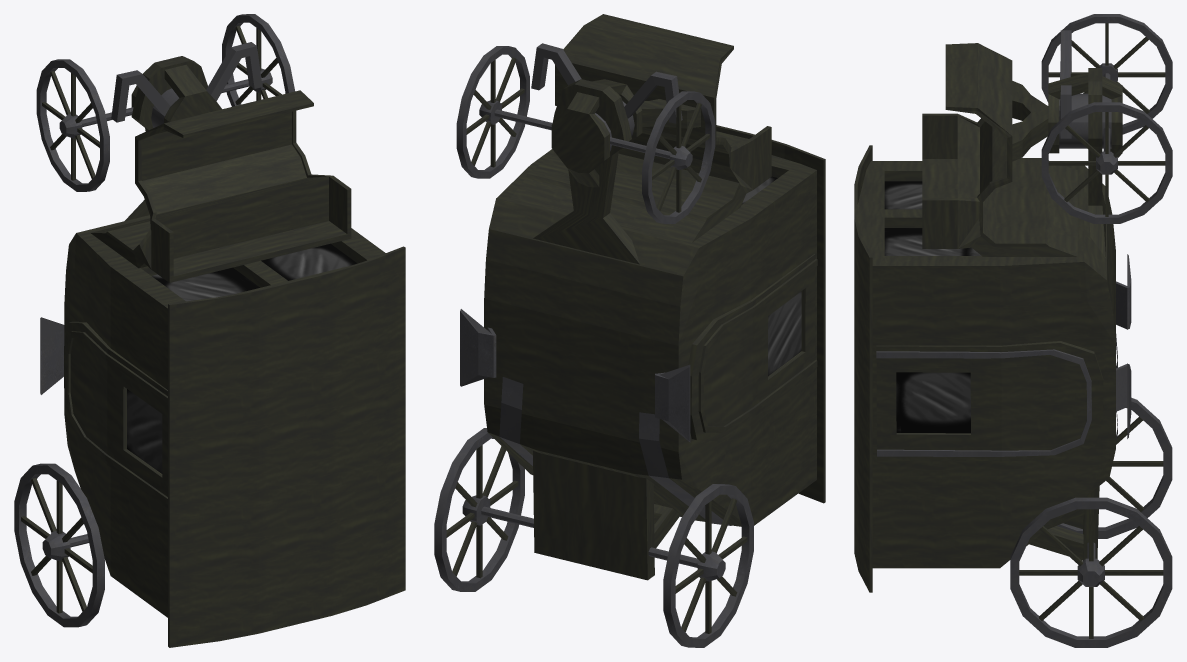
The model's file is Carriage02.fbx.
The picture shows the model from 3 angles, left to right: view 1: azimuth 30°, elevation 25°; view 2: azimuth 150°, elevation 25°; view 3: azimuth 270°, elevation 25°; orthographic projection. The views are drawn at different scales.
Visible parts, largest first — view 1: Carriage02; view 2: Carriage02; view 3: Carriage02.
Boxes of the visible parts, box(x1,y1,x2,y2) form: Carriage02: box(14, 14, 405, 647); Carriage02: box(434, 14, 825, 647); Carriage02: box(854, 14, 1172, 647).
Size of the model in its own units: 261 by 533 by 289.
